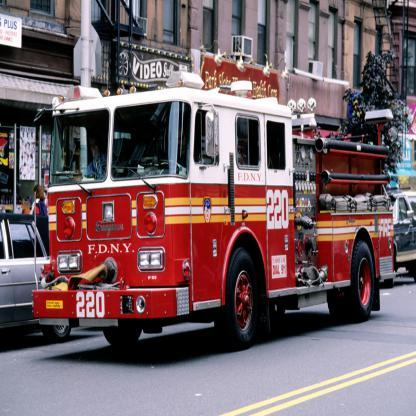fire-truck: (20, 25, 416, 375)
